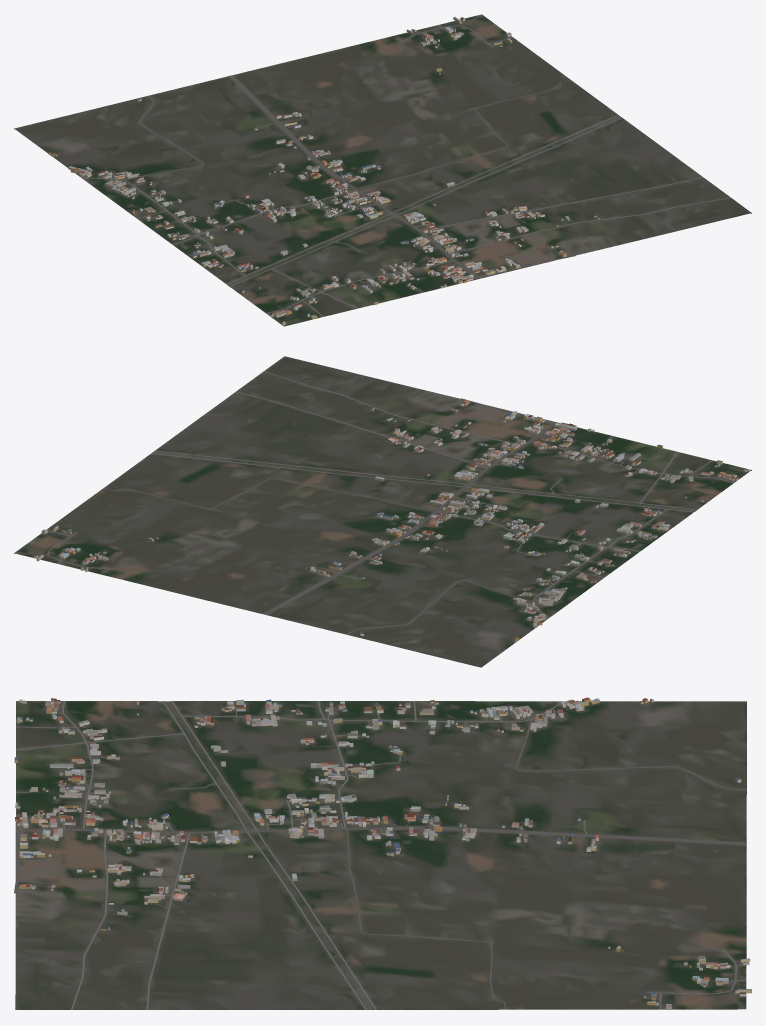
3 renders of one model, top to bottom at view 1: azimuth 30°, elevation 25°; view 2: azimuth 150°, elevation 25°; view 3: azimuth 270°, elevation 25°, orthographic. The views are drawn at different scales.
Visible parts, largest first — view 1: ground, buildings, roads; view 2: ground, buildings, roads; view 3: ground, buildings, roads.
Boxes of the visible parts, x1,y1,x2,y2 form: ground: (14, 14, 751, 326); buildings: (48, 17, 599, 325); roads: (75, 25, 730, 316); ground: (14, 356, 751, 667); buildings: (33, 400, 750, 642); roads: (47, 371, 733, 634); ground: (15, 701, 746, 1009); buildings: (14, 697, 751, 1009); roads: (14, 701, 746, 1009).
Size of the model in its own units: 1405 by 15.07 by 1414.
